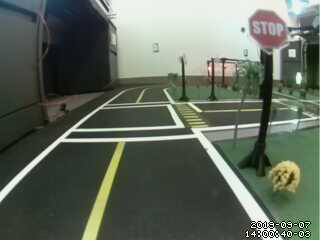Stop_Sign: (247, 5, 298, 57)
